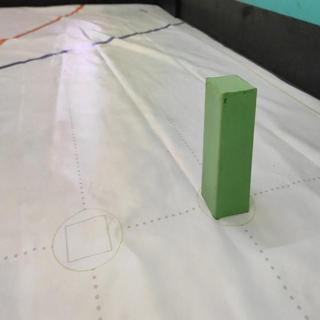greenbox: (201, 73, 257, 220)
